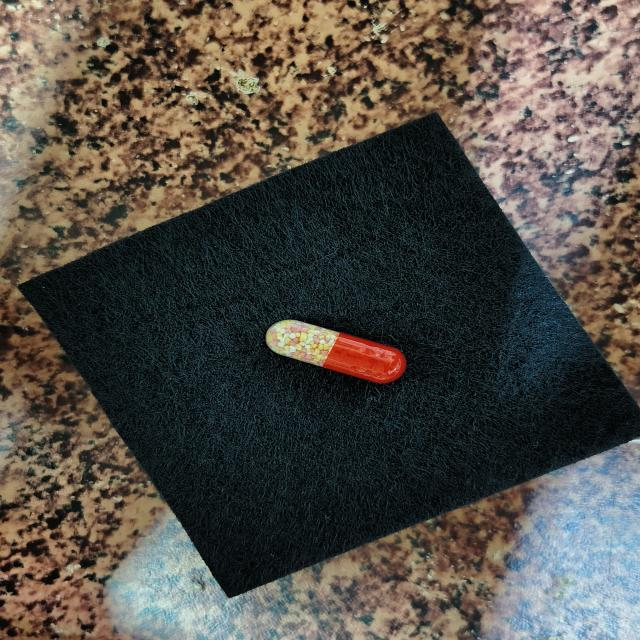Intact Capsule: (266, 320, 406, 383)
